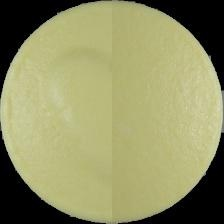67544-524: (0, 0, 224, 224)
